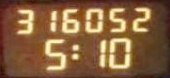0: (106, 36, 131, 68), (83, 6, 102, 33)
1: (97, 38, 105, 68), (48, 9, 56, 31)
2: (130, 6, 150, 31)
3: (15, 8, 33, 34)
5: (42, 38, 66, 70), (107, 7, 126, 32)
6: (60, 7, 79, 33)
X: (69, 43, 79, 60)
